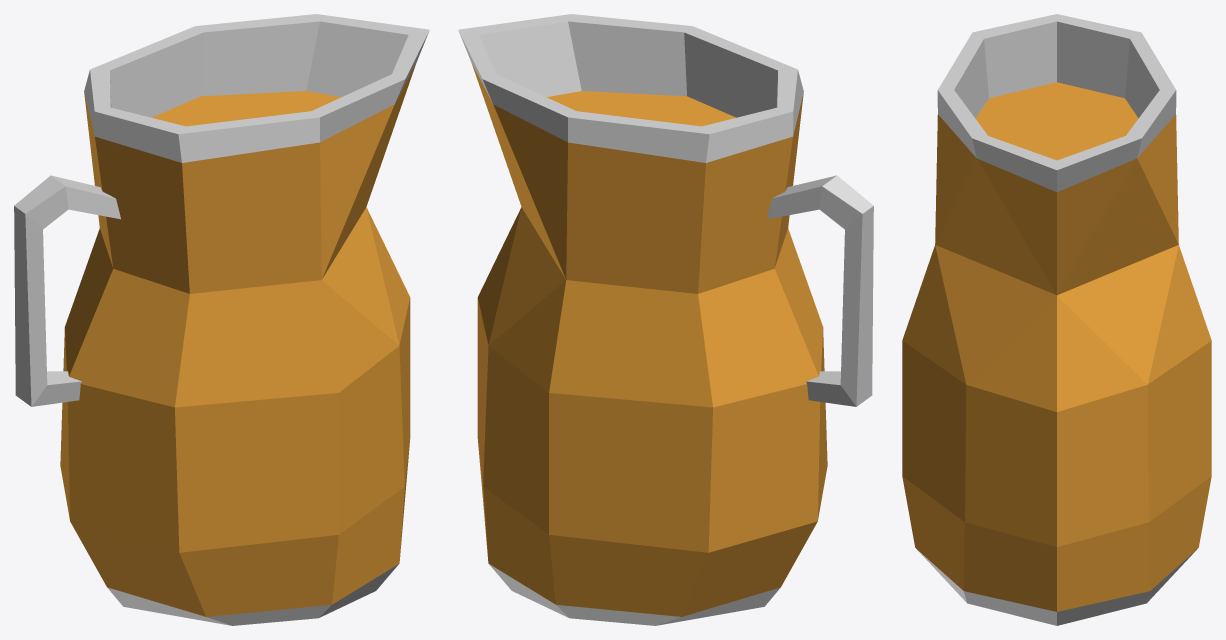
File: SM_Item_JuiceJug_01.fbx
3 views of the same model, side by side, from view 1: azimuth 30°, elevation 25°; view 2: azimuth 150°, elevation 25°; view 3: azimuth 270°, elevation 25° (orthographic). The views are drawn at different scales.
Parts seen in each view (by area): view 1: SM_Item_JuiceJug_01; view 2: SM_Item_JuiceJug_01; view 3: SM_Item_JuiceJug_01.
Boxes of the visible parts, x1,y1,x2,y2 form: SM_Item_JuiceJug_01: (14, 14, 429, 625); SM_Item_JuiceJug_01: (458, 14, 873, 625); SM_Item_JuiceJug_01: (902, 14, 1211, 625).
Bounding box in the file's own units: 34.72 × 40.62 × 23.73.
